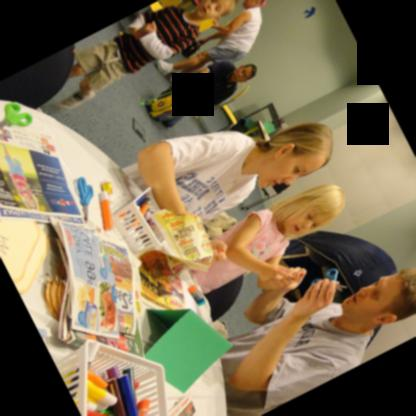backpack: (139, 88, 197, 121)
